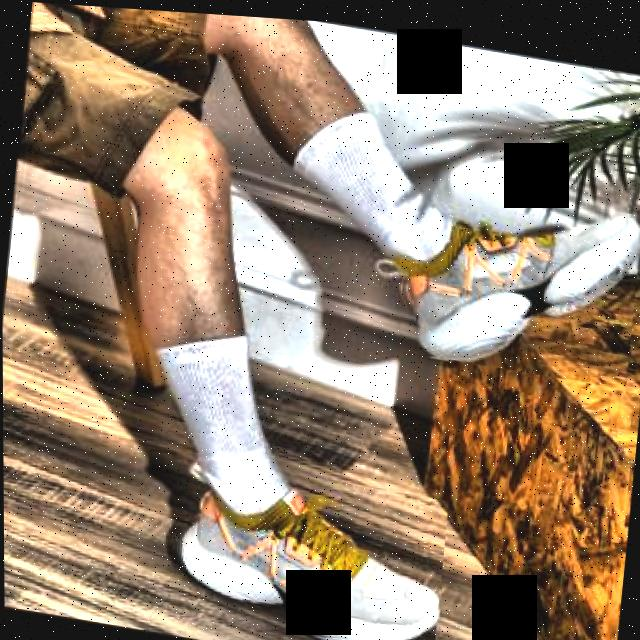shoe: (389, 168, 640, 382), (167, 452, 449, 640)
